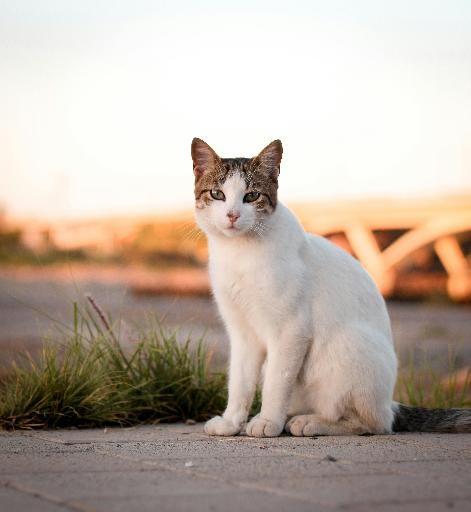cat_sitting: (191, 138, 471, 437)
